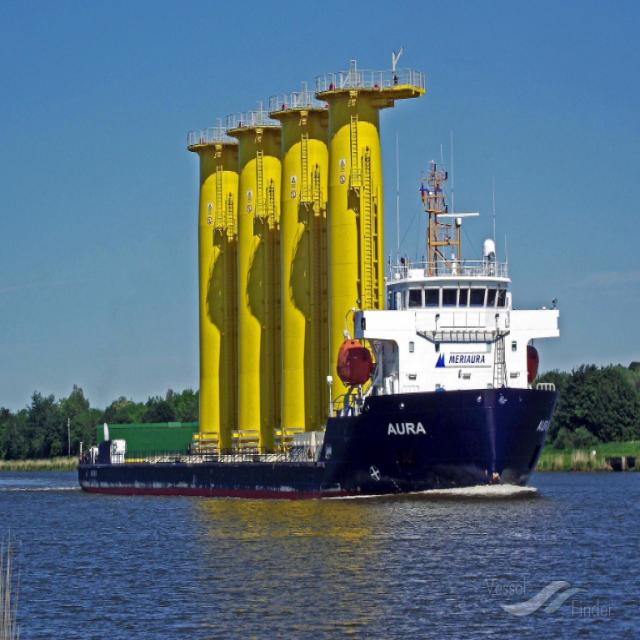OCR: (386, 417, 432, 447), (446, 352, 486, 372)
